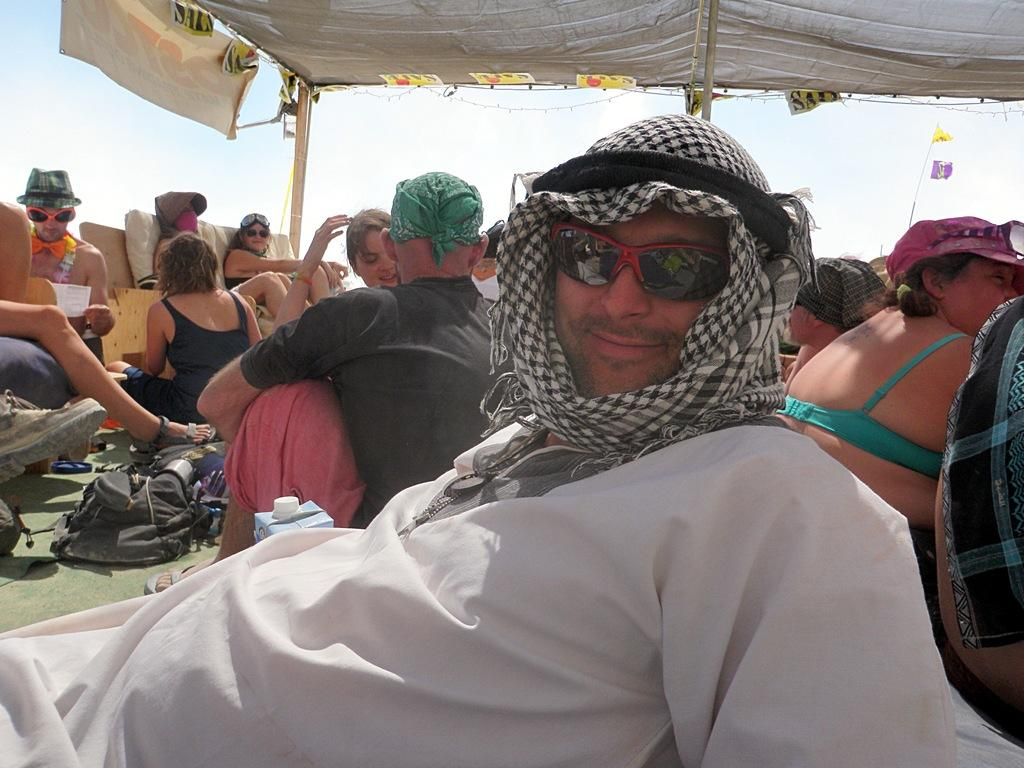Hat: (885, 216, 1023, 283), (17, 166, 82, 212)
